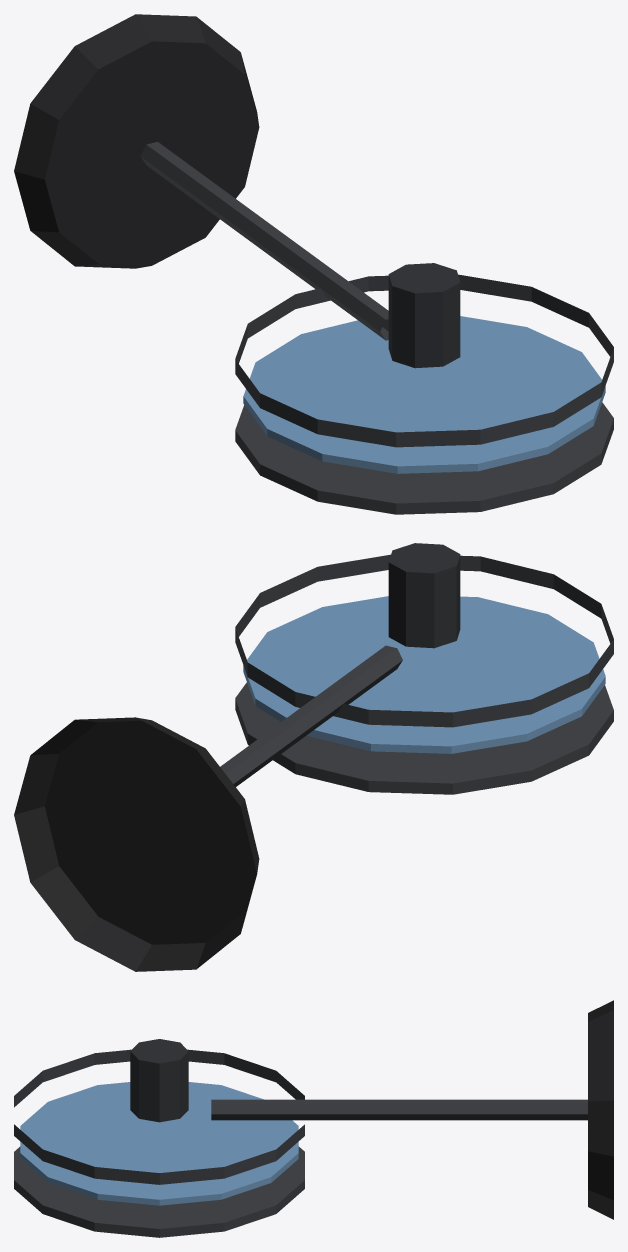
File: a_fan.obj
The picture shows the model from 3 angles, top to bottom: view 1: azimuth 30°, elevation 25°; view 2: azimuth 150°, elevation 25°; view 3: azimuth 270°, elevation 25°; orthographic projection. The views are drawn at different scales.
Size of the model in its own units: 0.46 by 0.34 by 0.9242.
Materials: 1 (1 with a texture image).
